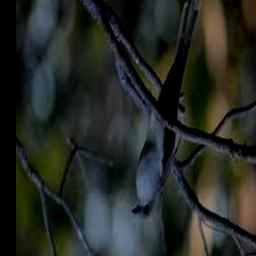Cuckoo: (131, 0, 202, 221)
